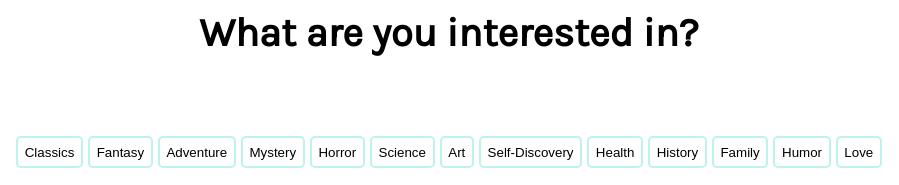
Test case: buttons disabled WHEN category loading
The width and height of the screenshot is (899, 185).
Note: Chooses a theme
What coordinates should you click on to do the following:
click the button "Classics"
I would click on:
 (50, 152)
Its box is left=16, top=136, right=83, bottom=168.
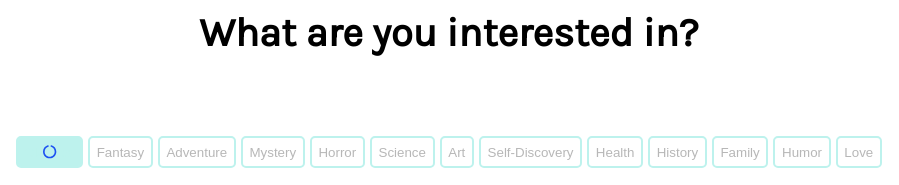
Check: the button "Classics" is disabled, box left=16, top=136, right=83, bottom=168
Check: the button "Fantasy" is disabled, box left=88, top=136, right=153, bottom=168
Check: the button "Adventure" is disabled, box left=158, top=136, right=236, bottom=168
